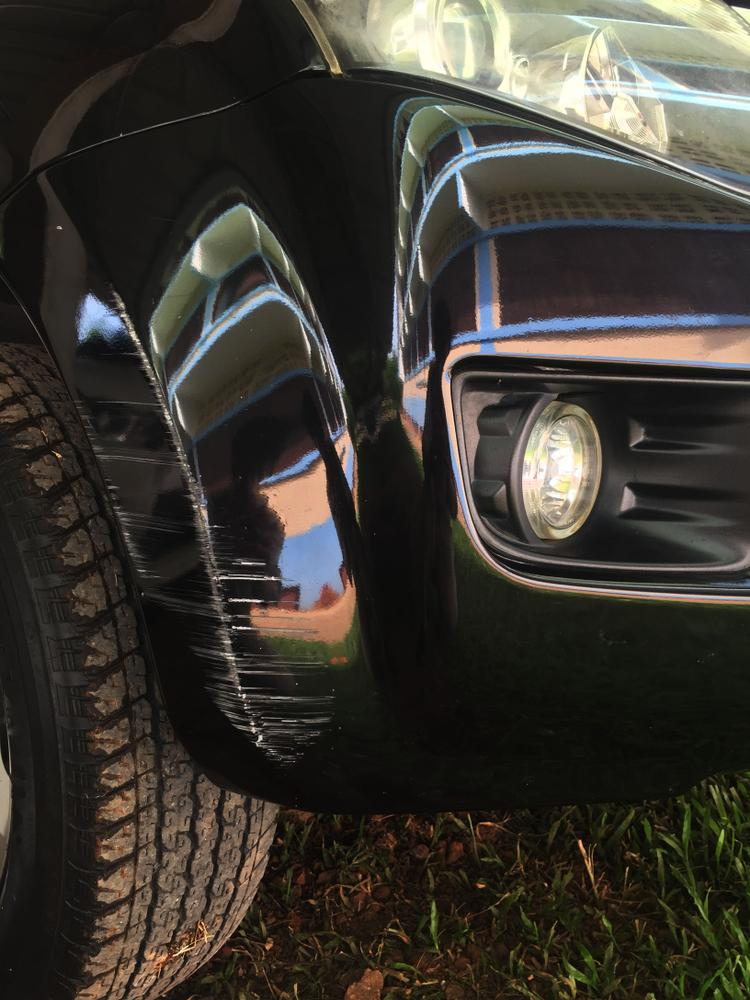scratch: (79, 281, 335, 764)
